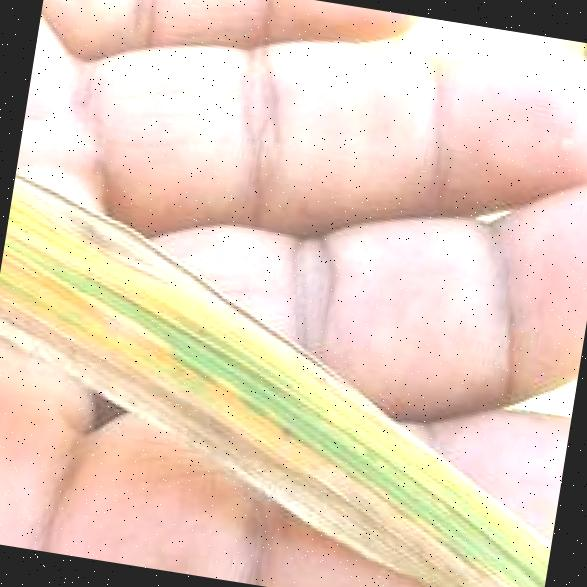Bacteria_Leaf_Blight: (0, 168, 479, 569)
